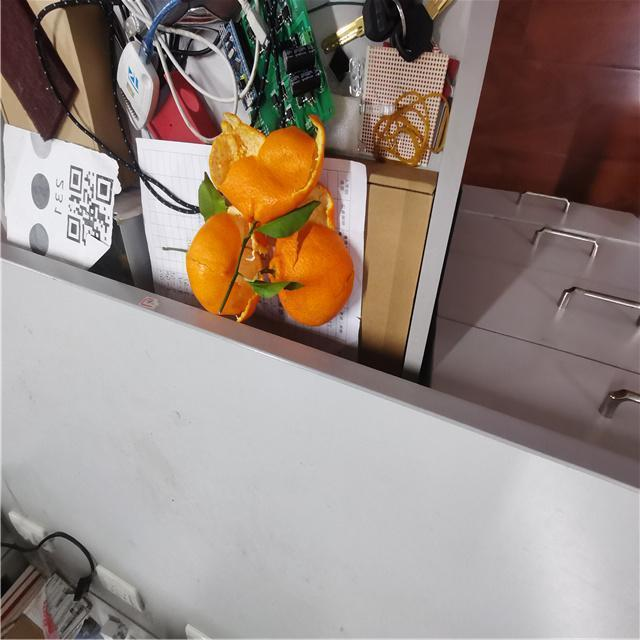orange peel: (205, 115, 326, 224), (182, 210, 271, 321), (266, 226, 355, 328)
